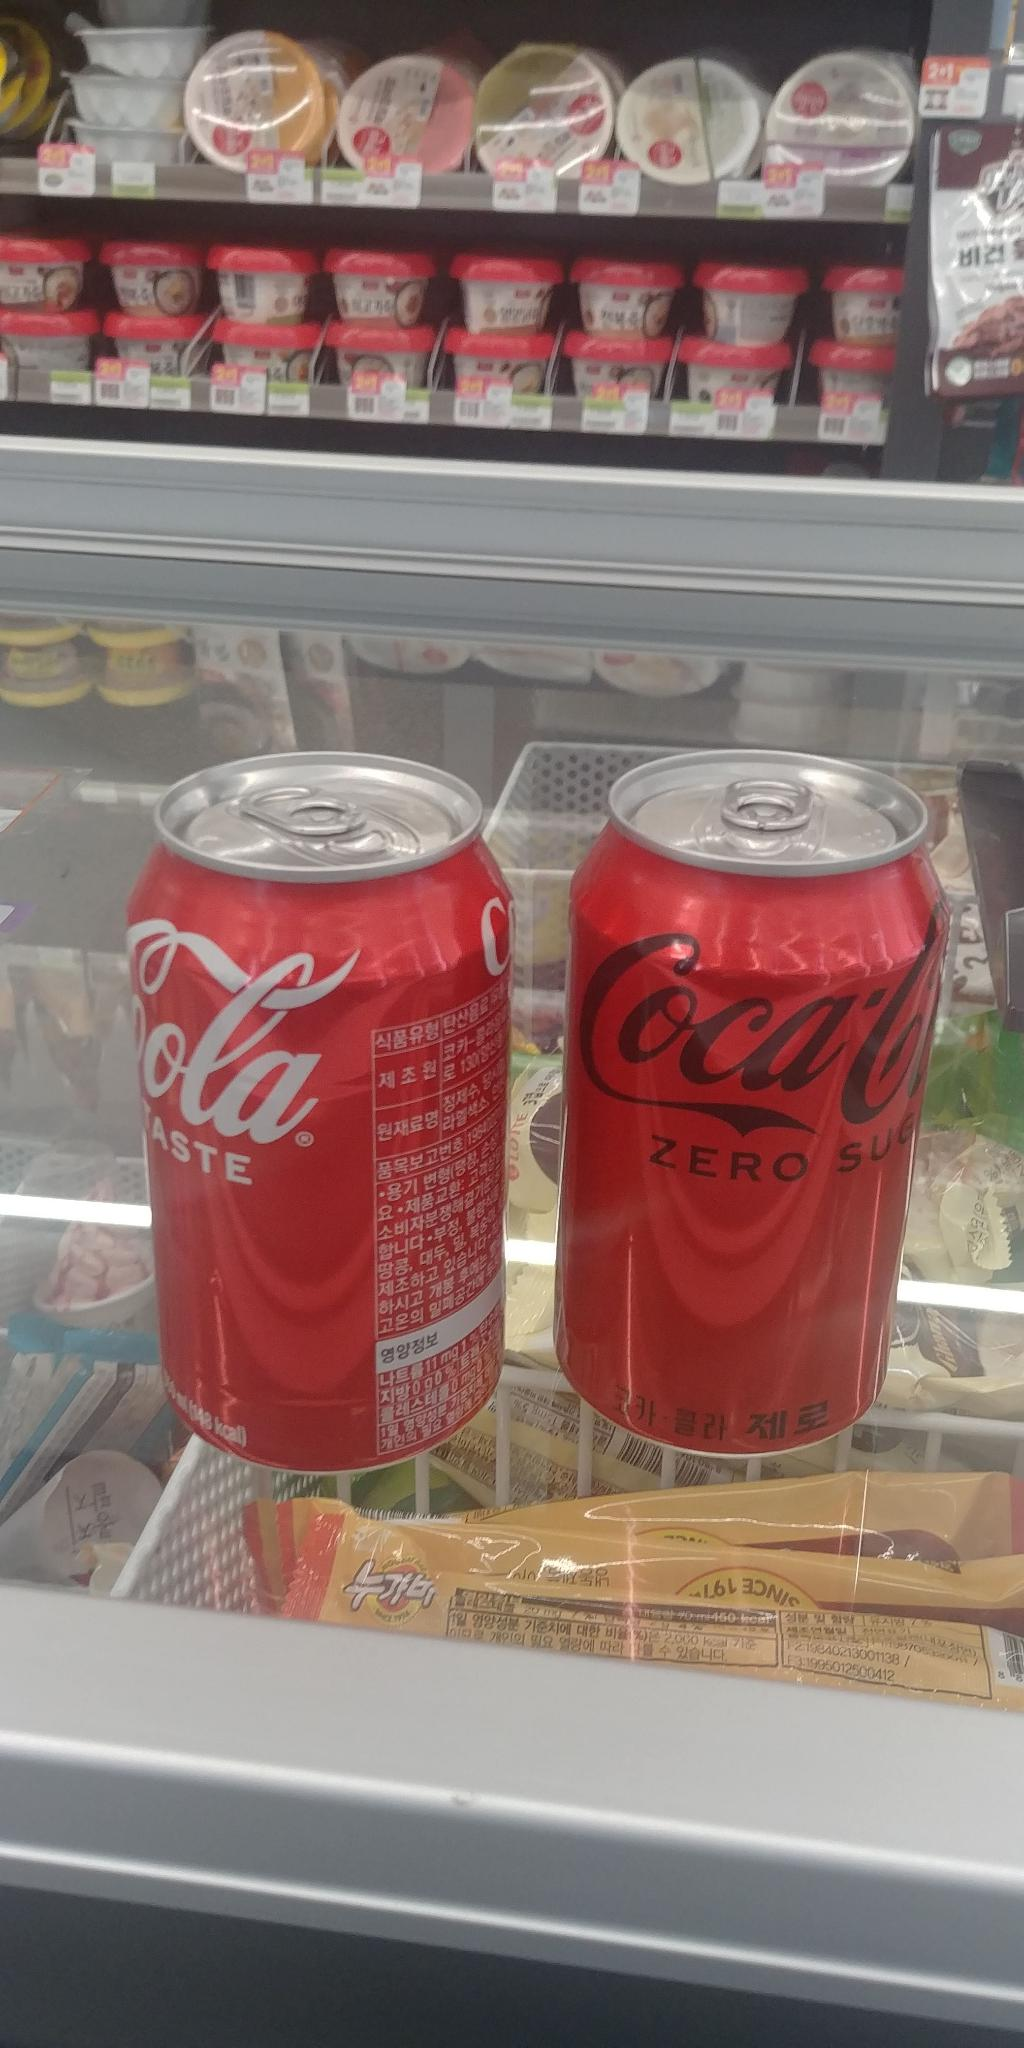cocacola: (111, 724, 525, 1462)
